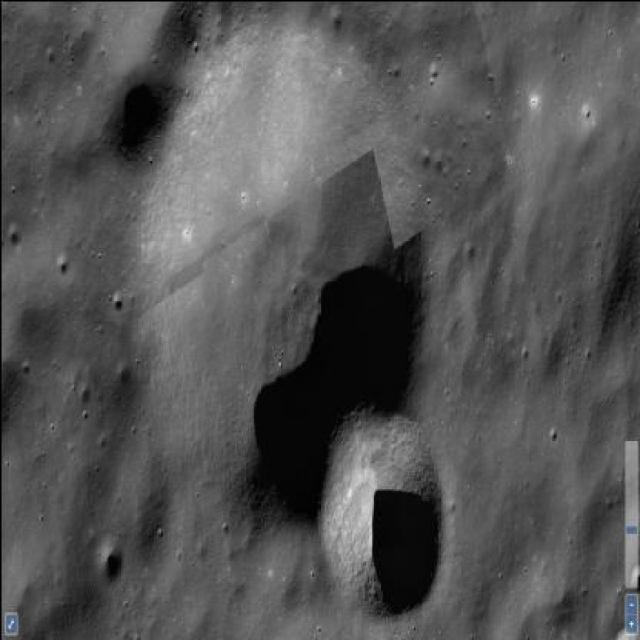crater: (134, 9, 426, 526), (323, 418, 442, 622)
